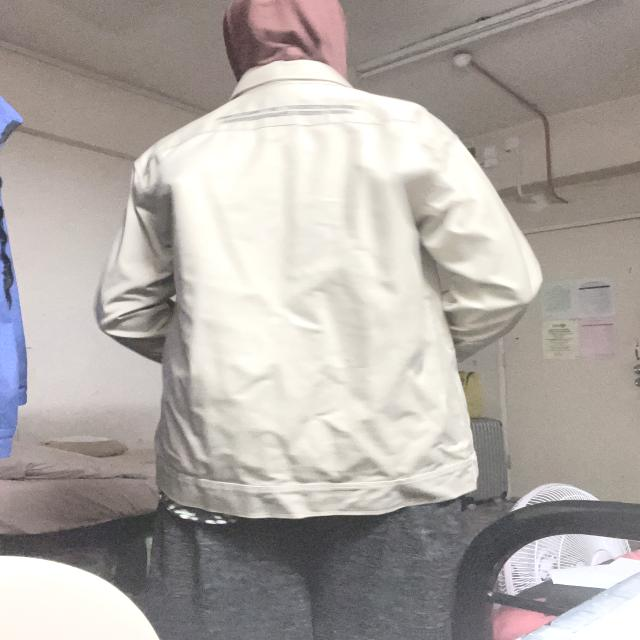person_without_labcoat: (95, 0, 542, 640)
